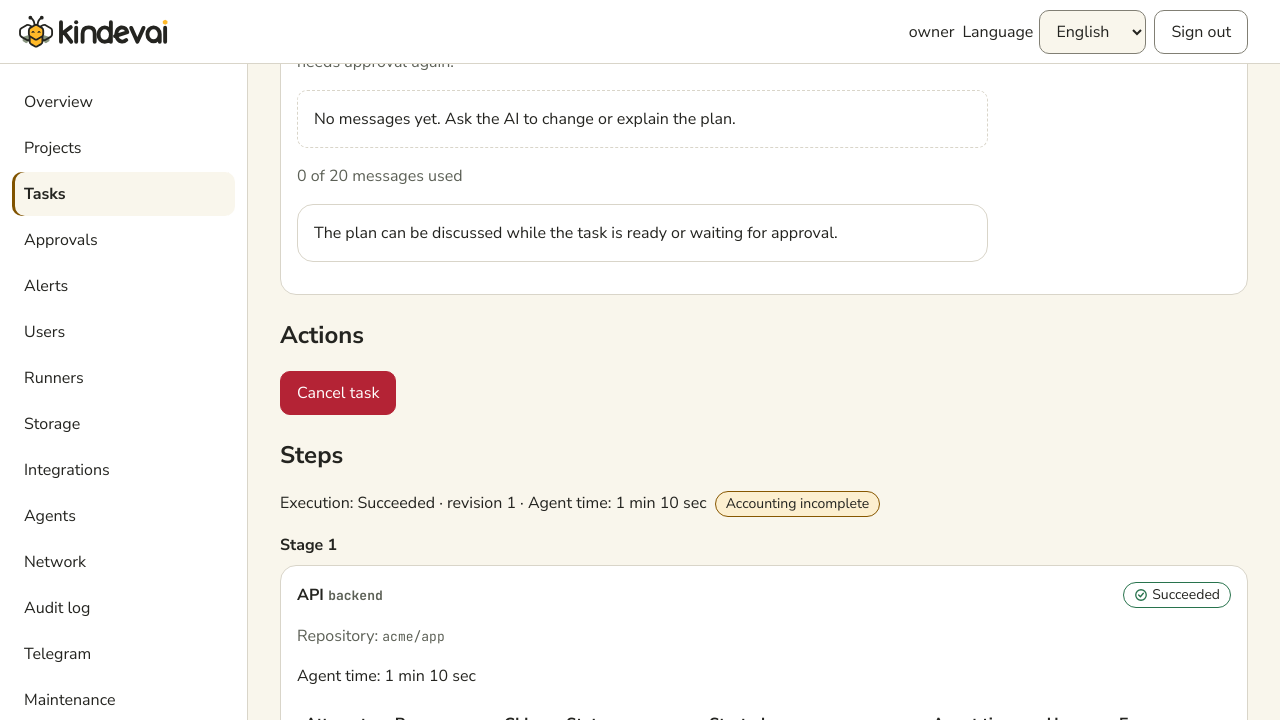
Test case: task detail › cancels after naming the task, and retries a failed task (Owner / project admin only)
The width and height of the screenshot is (1280, 720).
(page scrolled)
Expected: the button "Retry task" is not shown
Click the button "Cancel task" at (338, 393), box [280,371,396,415]
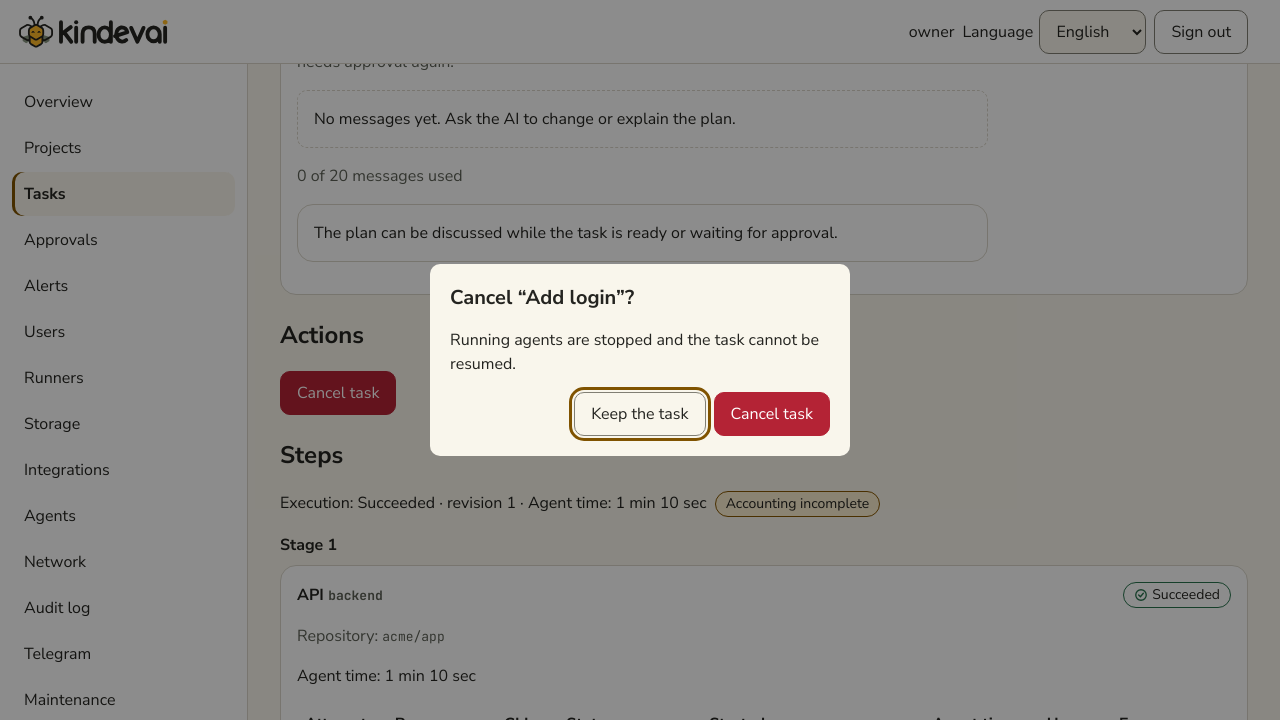
Click the button "Cancel task" at (772, 414), box [714,392,830,436]
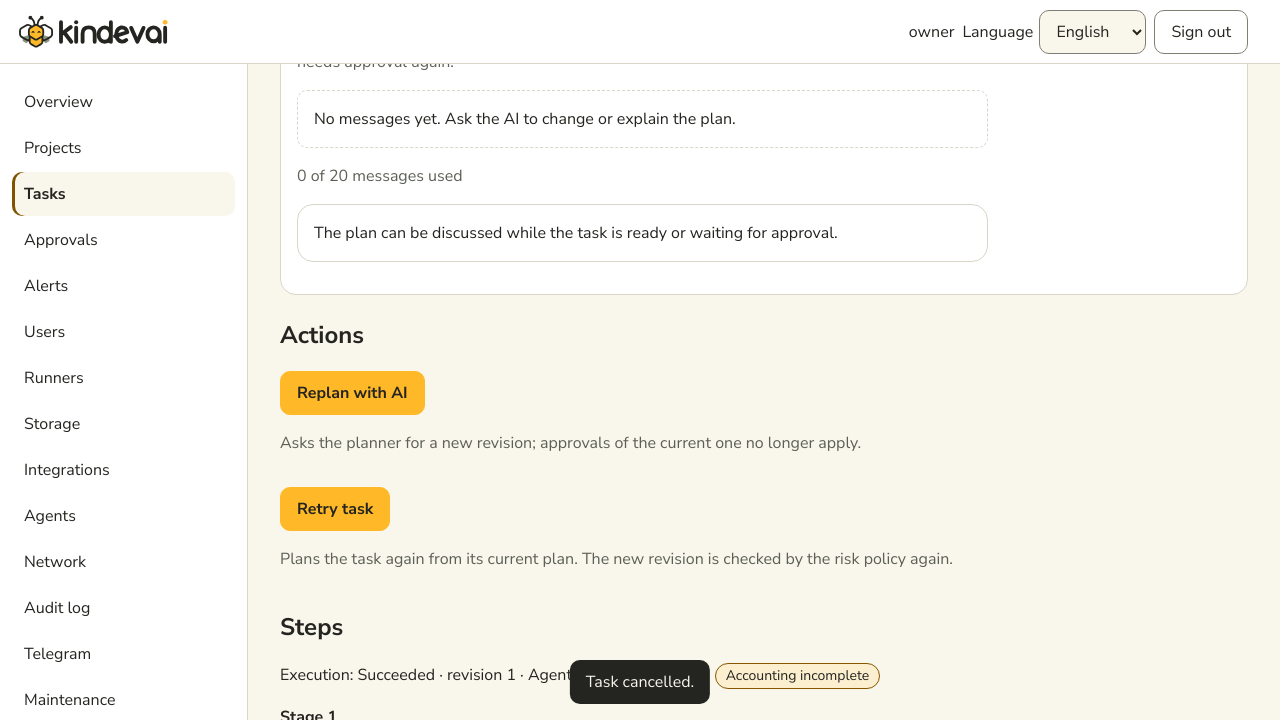
Expected: the text "Task cancelled." is shown, [570,660,710,704]
Click the button "Retry task" at (335, 509), box [280,487,390,531]
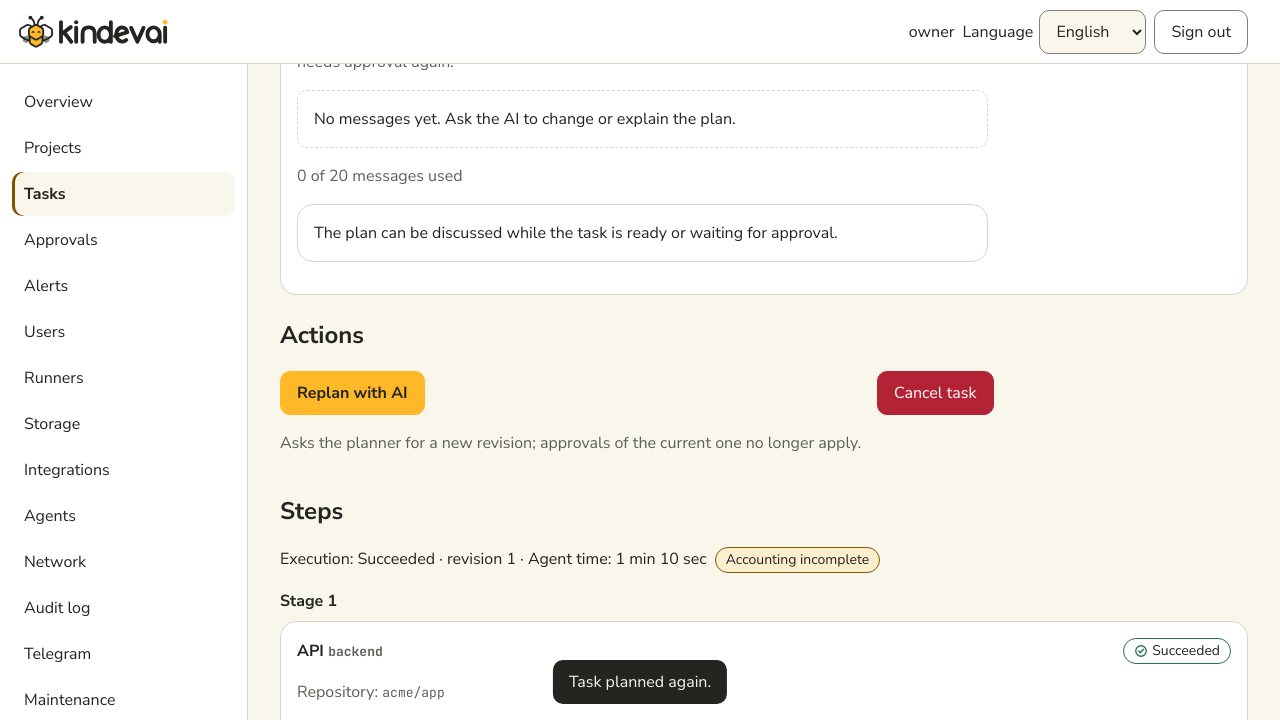
Expected: the text "Task planned again." is shown, [553,660,727,704]
